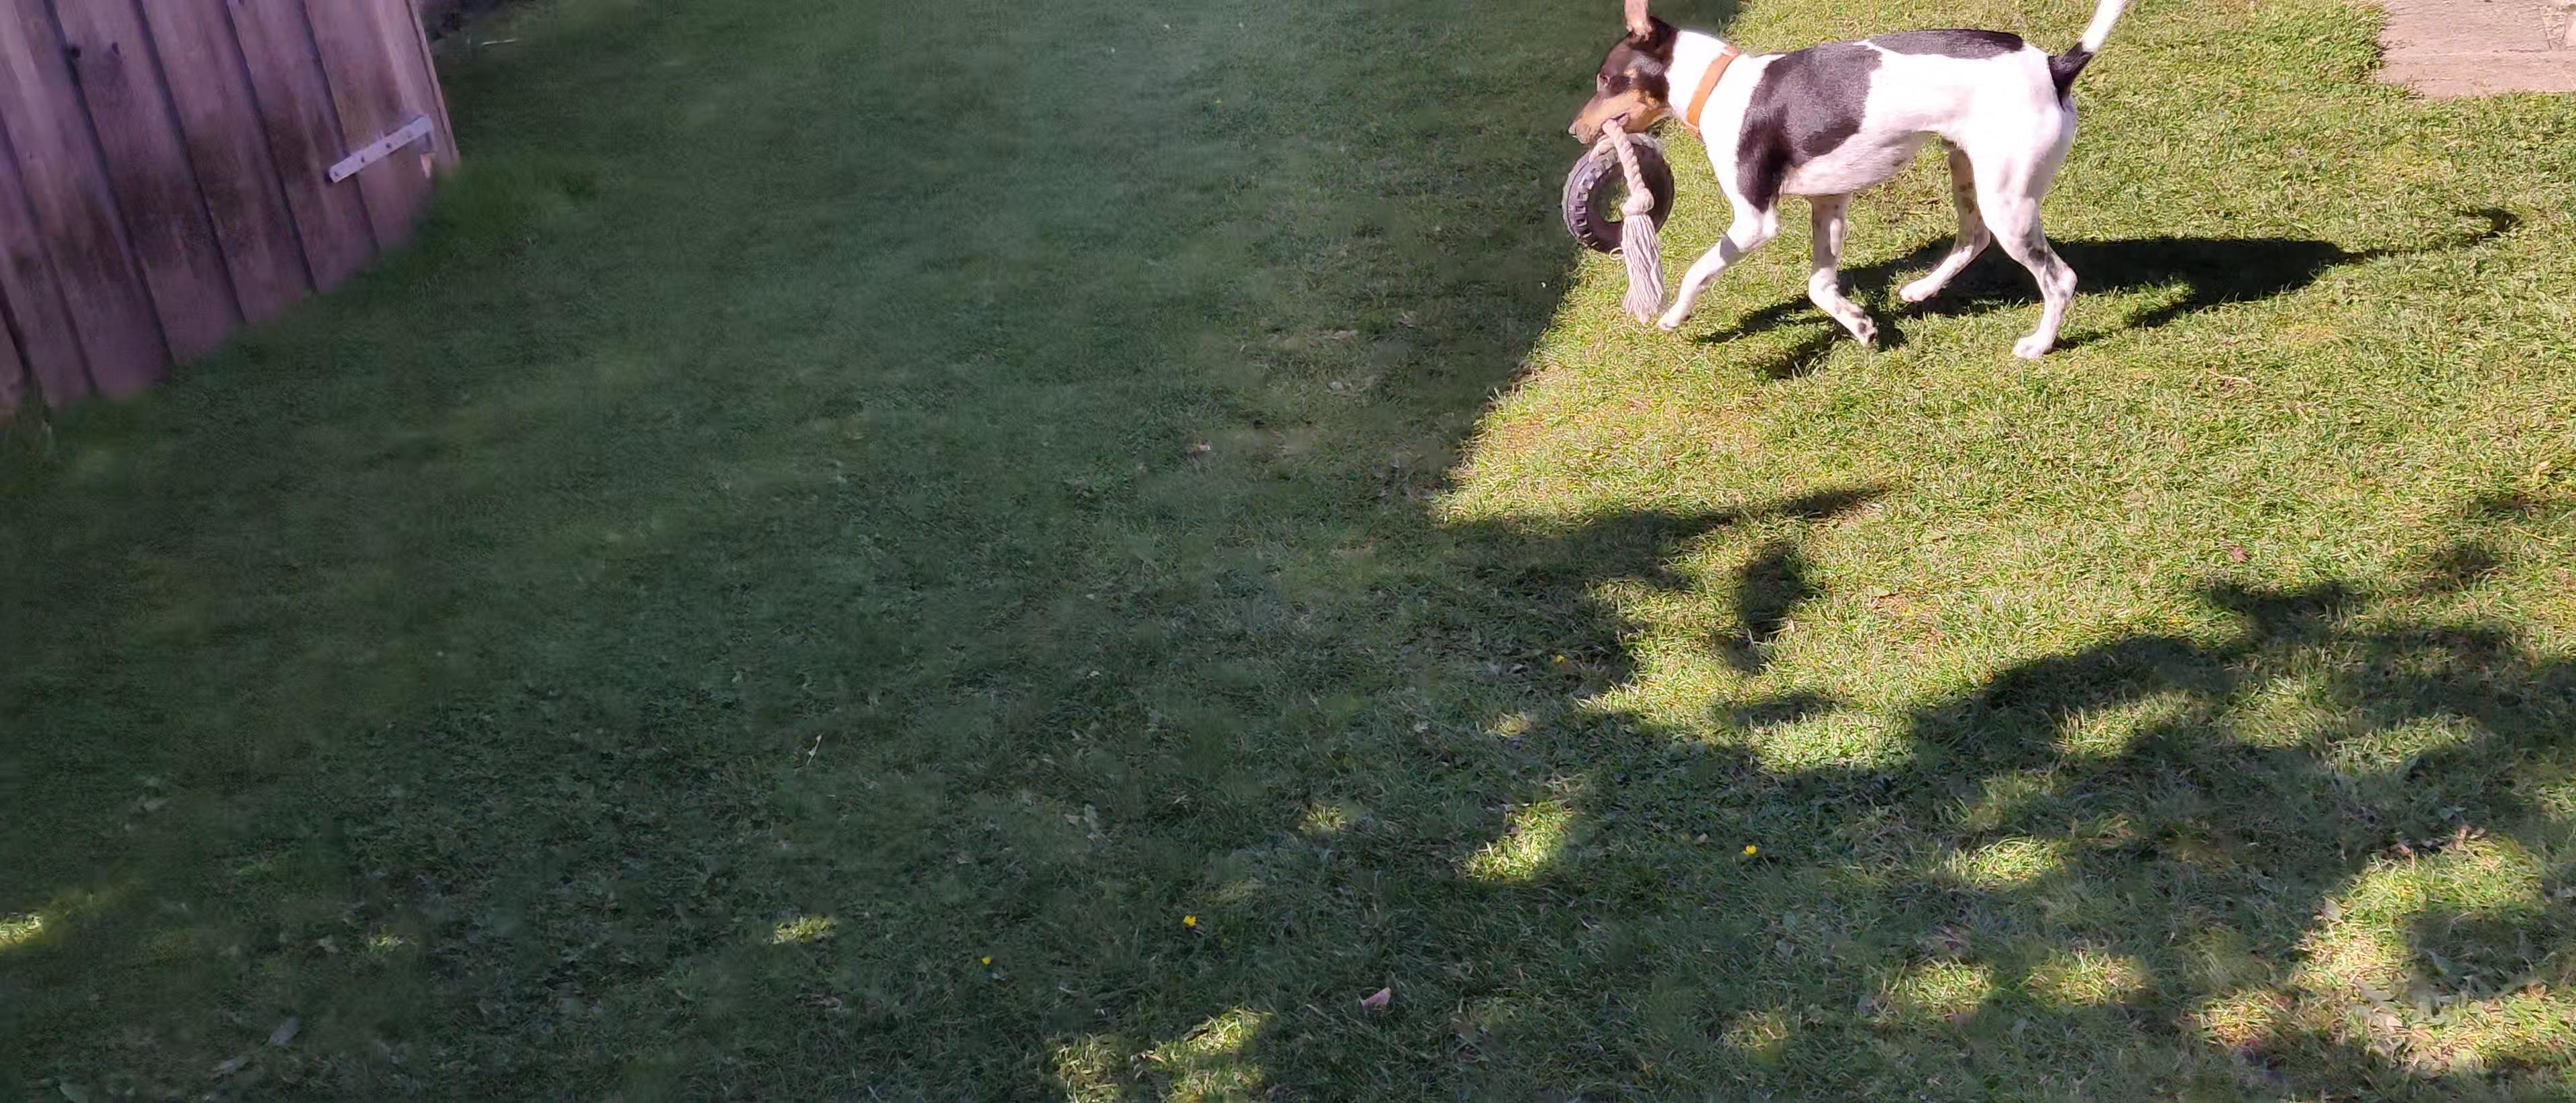Dog: (1562, 0, 2152, 362)
